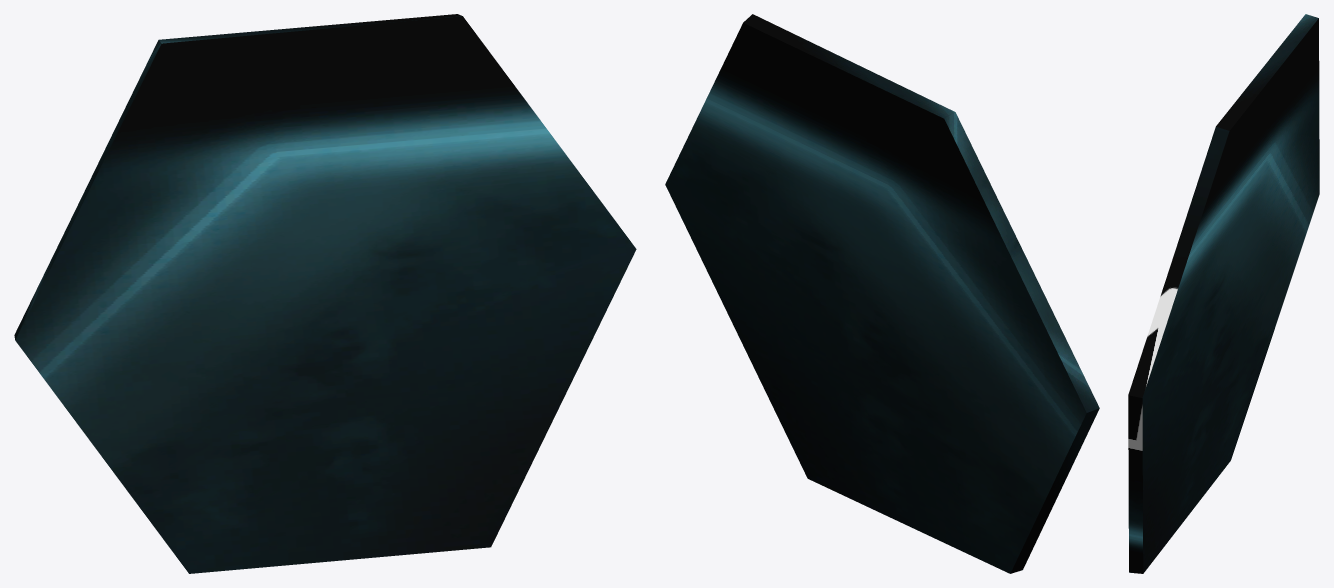
File: hexagon_4_Collection_9.fbx
3 views of the same model, side by side, from view 1: azimuth 30°, elevation 25°; view 2: azimuth 150°, elevation 25°; view 3: azimuth 270°, elevation 25° (orthographic). The views are drawn at different scales.
Parts seen in each view (by area): view 1: GD_mesh.009; view 2: GD_mesh.009; view 3: GD_mesh.009.
Part boxes in pixels (bbox=[...]): GD_mesh.009: bbox=[14, 14, 636, 573]; GD_mesh.009: bbox=[665, 14, 1099, 573]; GD_mesh.009: bbox=[1128, 14, 1319, 573].
Bounding box in the file's own units: 175 × 59.59 × 156.
Materials: 1 (1 with a texture image).
